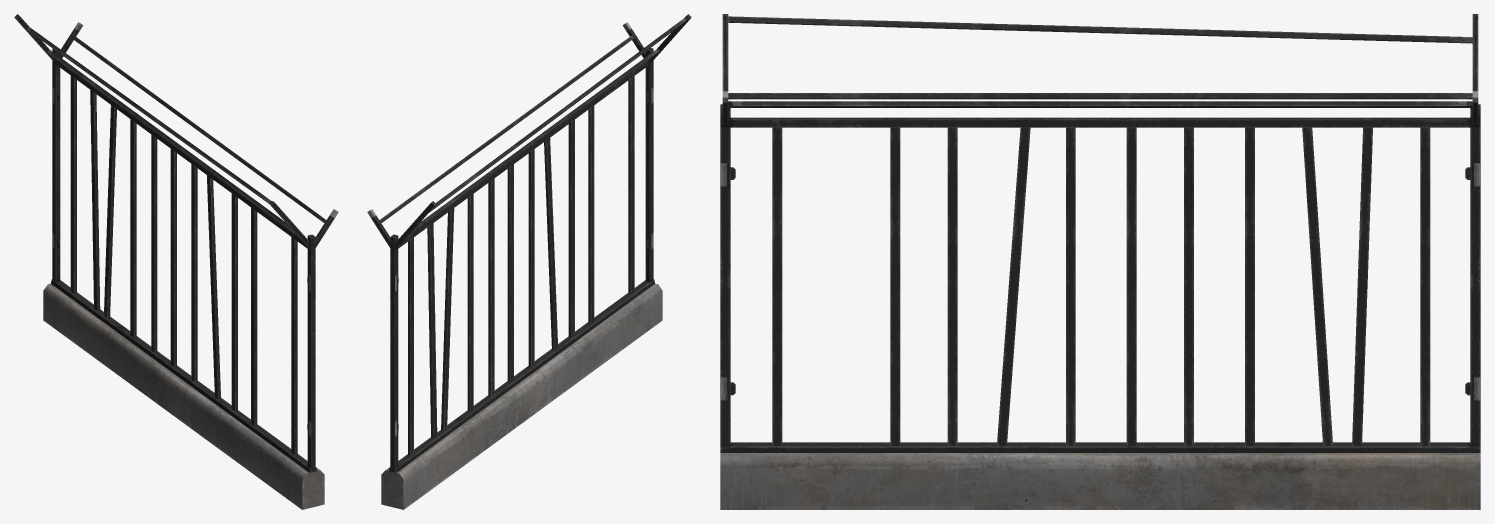
File: HH_Fence_A_4m_02.fbx
The picture shows the model from 3 angles, left to right: view 1: azimuth 30°, elevation 25°; view 2: azimuth 150°, elevation 25°; view 3: azimuth 270°, elevation 25°; orthographic projection. The views are drawn at different scales.
Parts seen in each view (by area): view 1: HH_Fence_A_4m_02_LOD0; view 2: HH_Fence_A_4m_02_LOD0; view 3: HH_Fence_A_4m_02_LOD0.
Part boxes in pixels (x1,y1,x2,y2): HH_Fence_A_4m_02_LOD0: (14,14,338,509); HH_Fence_A_4m_02_LOD0: (367,14,691,509); HH_Fence_A_4m_02_LOD0: (720,14,1480,509).
Size of what is drawn, in the model's own units: 60.2 by 267 by 400.
